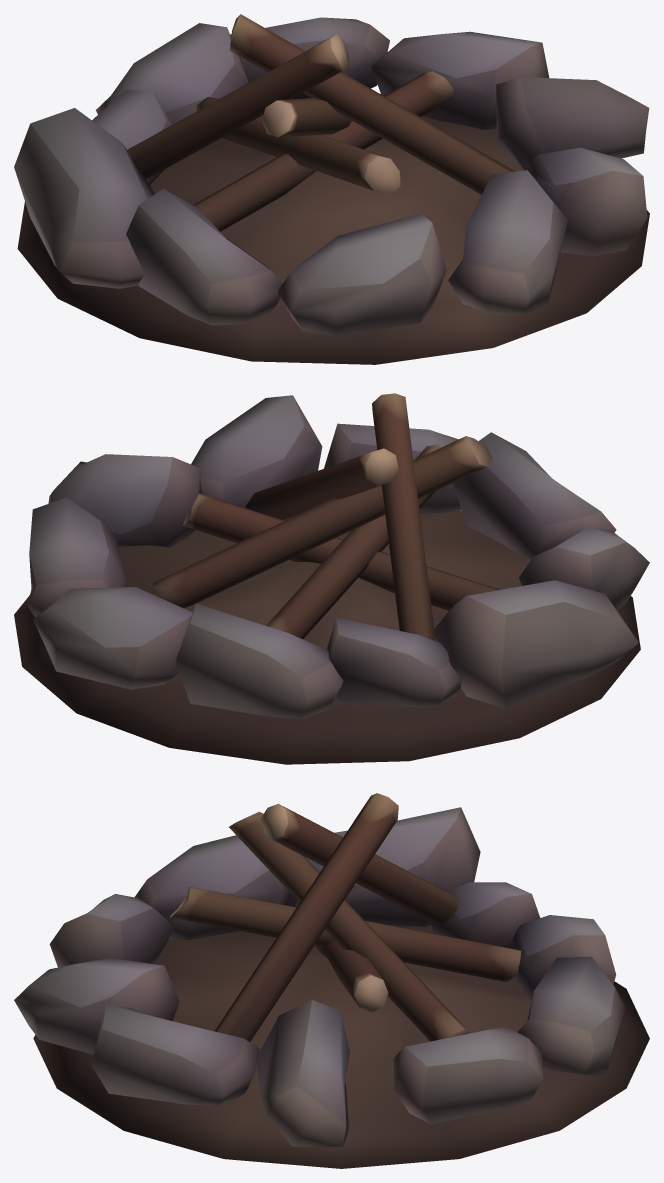
Rendered from furnishings-lightsources-campfire_v1.glb.
The picture shows the model from 3 angles, top to bottom: view 1: azimuth 30°, elevation 25°; view 2: azimuth 150°, elevation 25°; view 3: azimuth 270°, elevation 25°; orthographic projection. The views are drawn at different scales.
Visible parts, largest first — view 1: Campfire.001; view 2: Campfire.001; view 3: Campfire.001.
Boxes of the visible parts, bbox=[...] form: Campfire.001: bbox=[14, 14, 649, 364]; Campfire.001: bbox=[14, 393, 649, 764]; Campfire.001: bbox=[14, 793, 649, 1168].
Bounding box in the file's own units: 1.75 × 0.8467 × 1.68.
